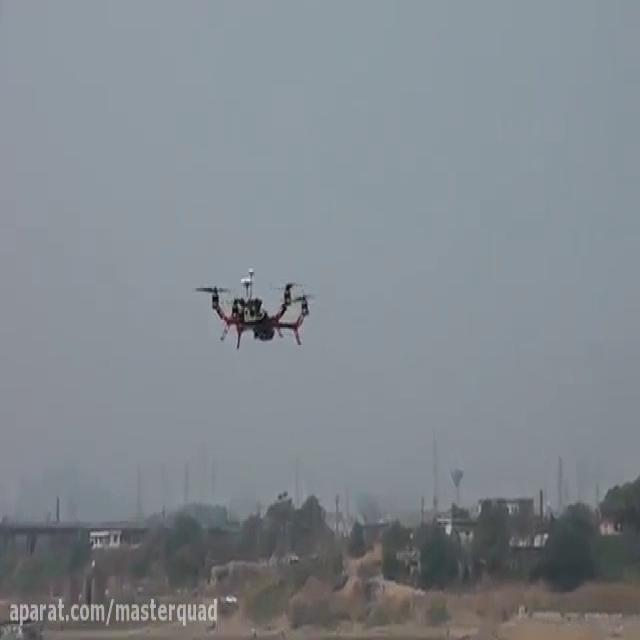drone: (188, 262, 322, 358)
